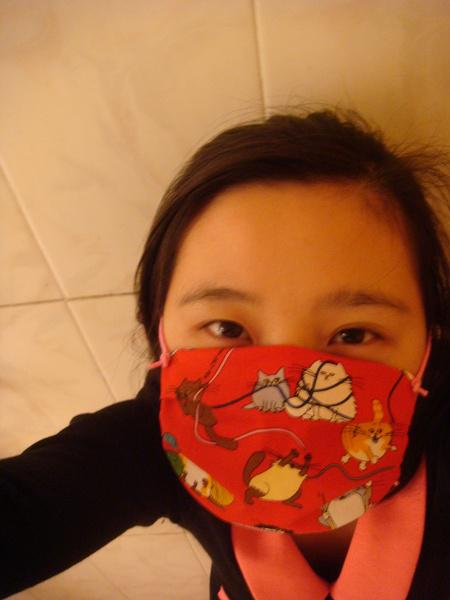OK: (167, 273, 411, 517)
